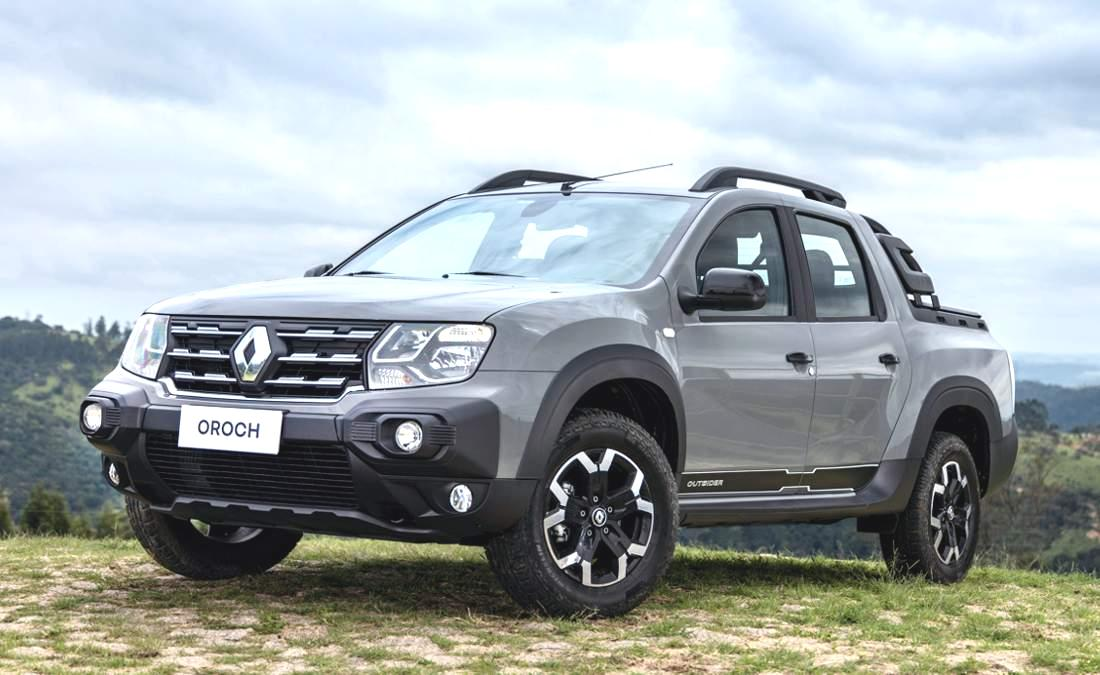Renault: (223, 315, 287, 397)
